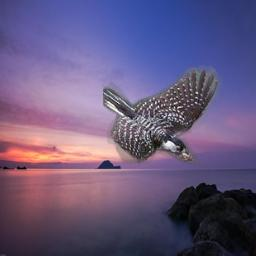Woodpecker: (103, 65, 223, 166)
